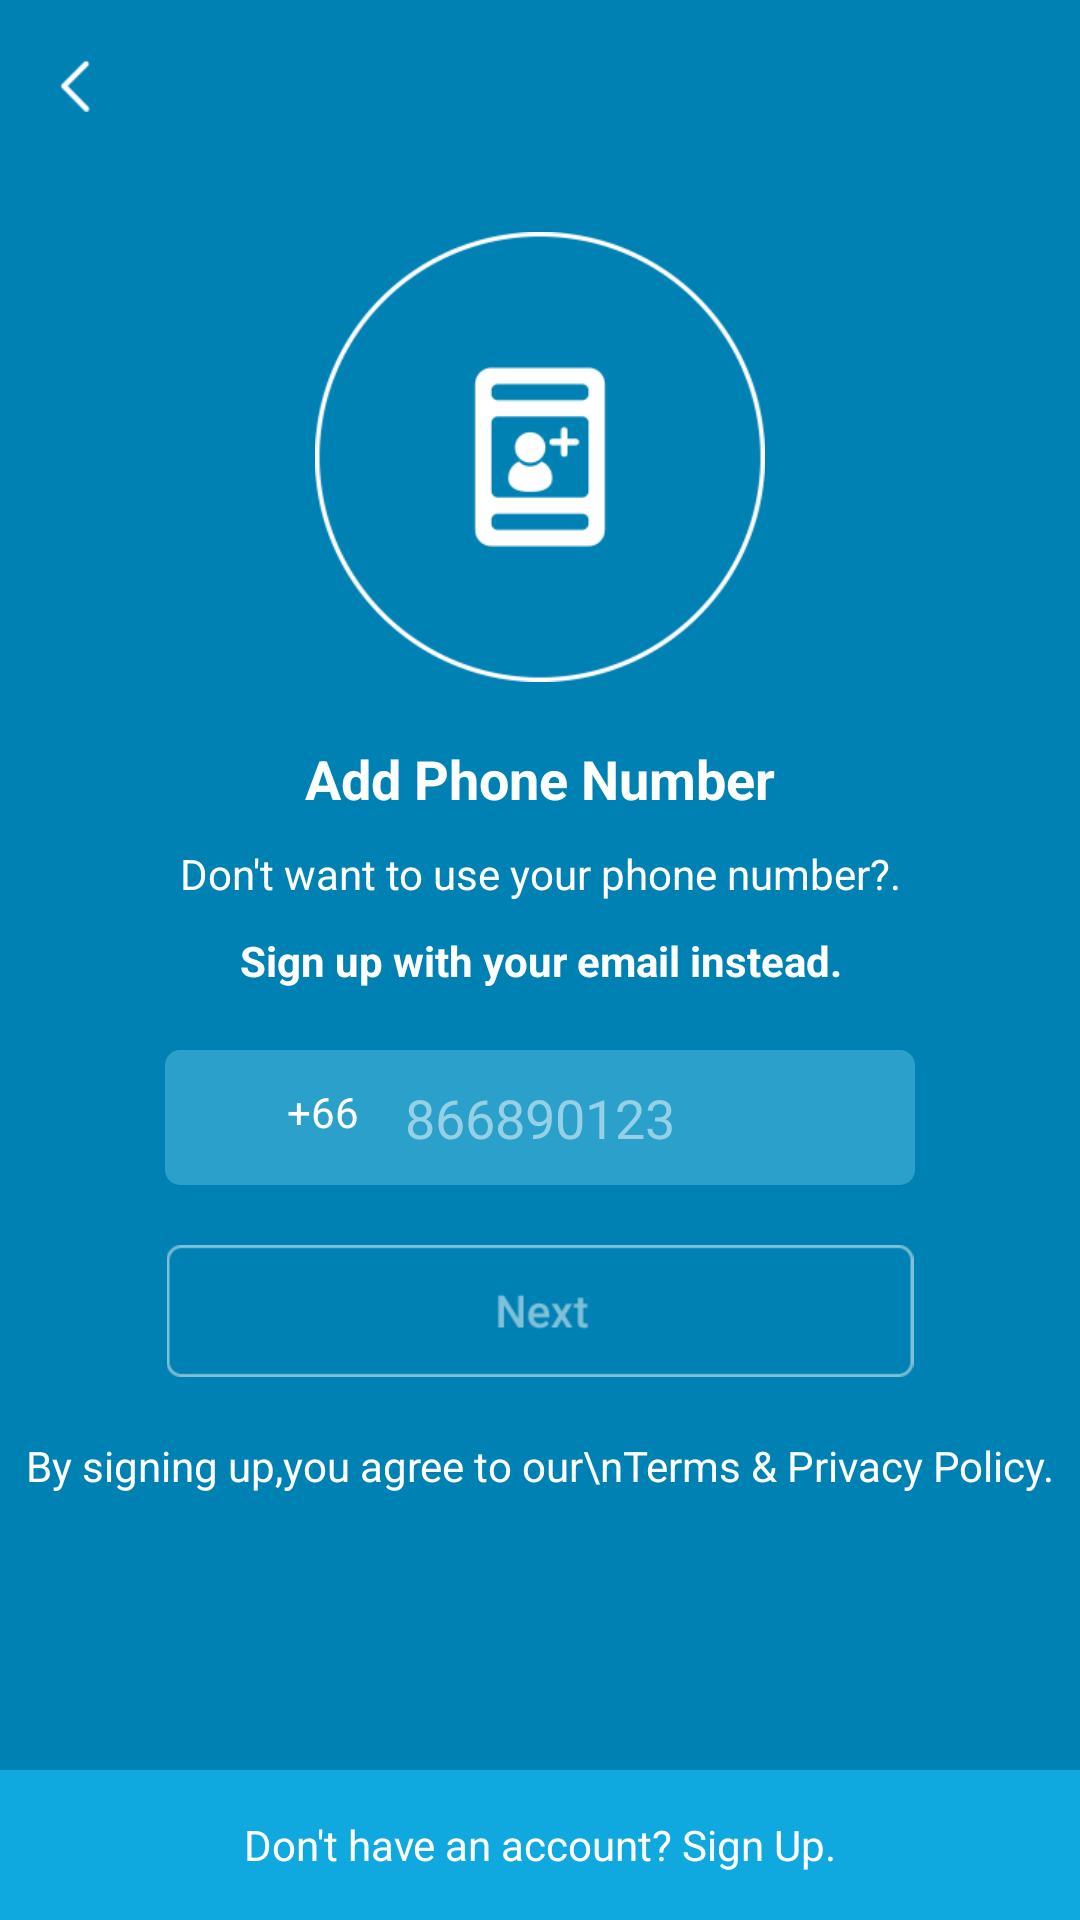

Screen size 1080px×1920px. Icon name, then its box in pixels as {"x1": x1, "y1": y1, "x2": x2, "y2": y2}:
back: {"x1": 60, "y1": 60, "x2": 90, "y2": 112}
